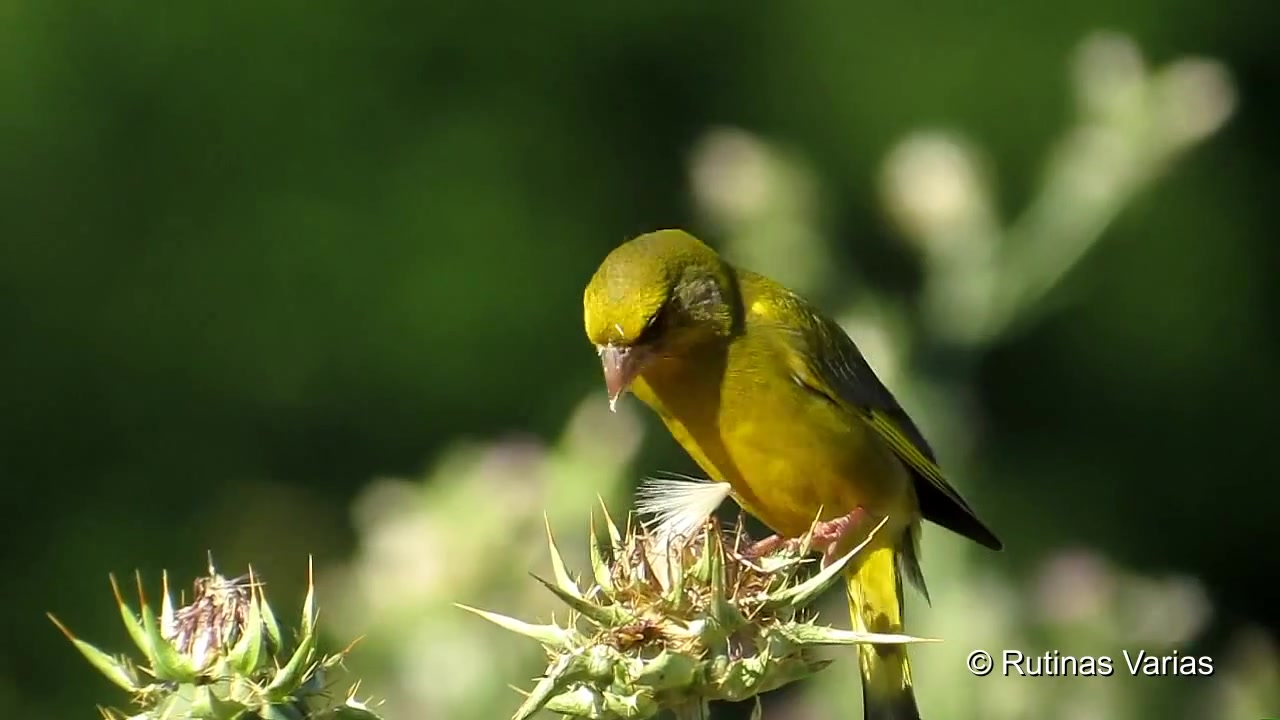bird: (582, 228, 1007, 720)
